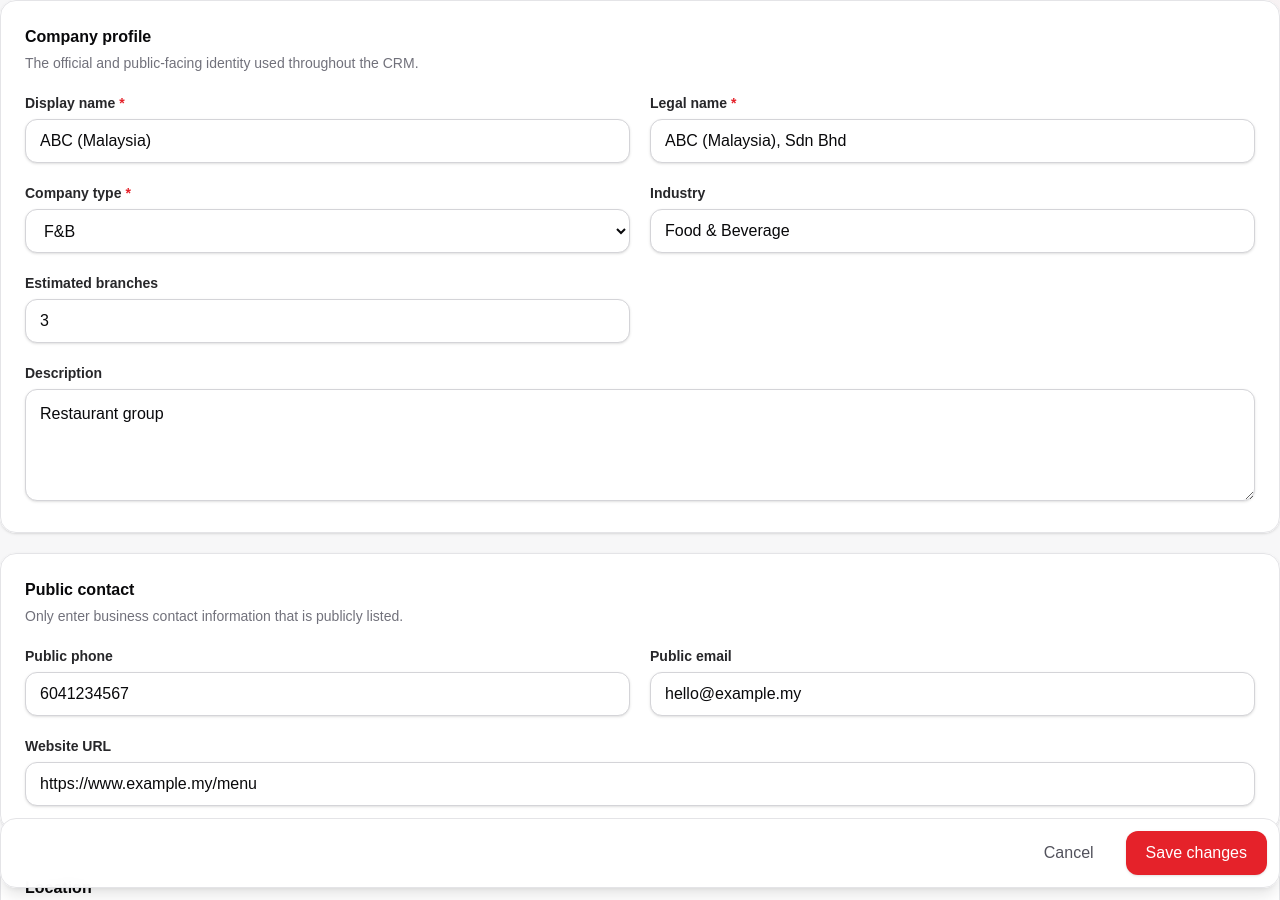
Scenario: Companies UI › submits the same form for successful update
Click the button "Save changes" at (1196,853), box [1126,831,1267,875]
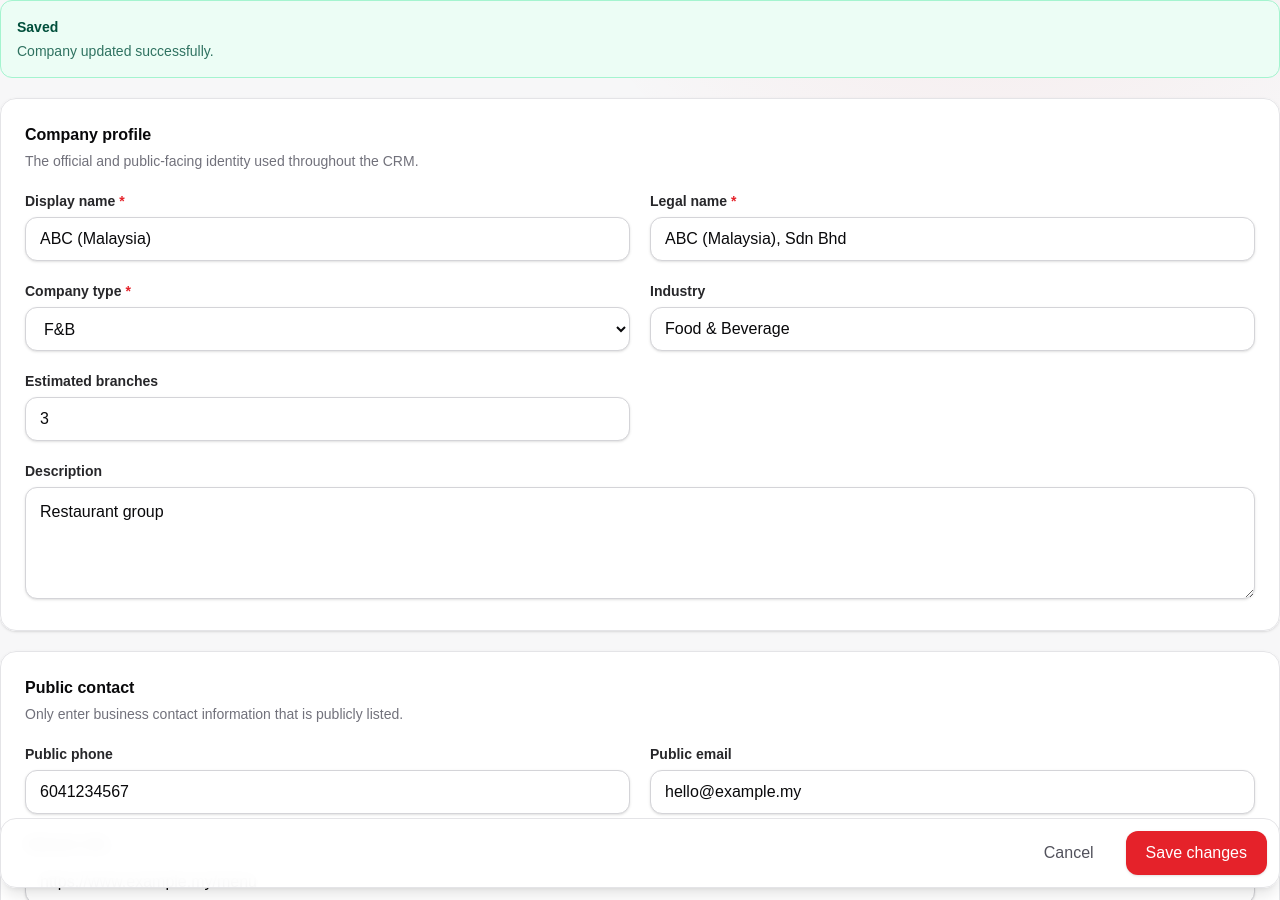
Check: the text "Company updated successfully." is shown, box [17,43,214,59]
